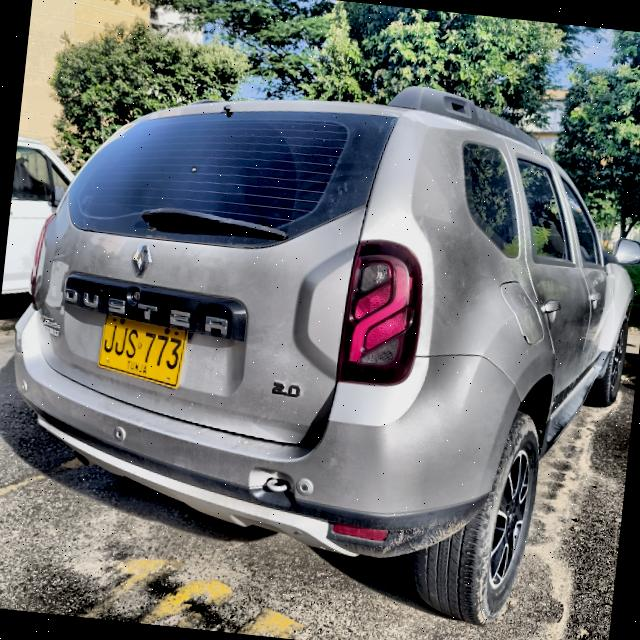3: (164, 336, 183, 371)
7: (151, 333, 170, 367), (141, 330, 157, 363)
J: (112, 325, 129, 357), (102, 322, 118, 354)
S: (124, 327, 140, 360)
